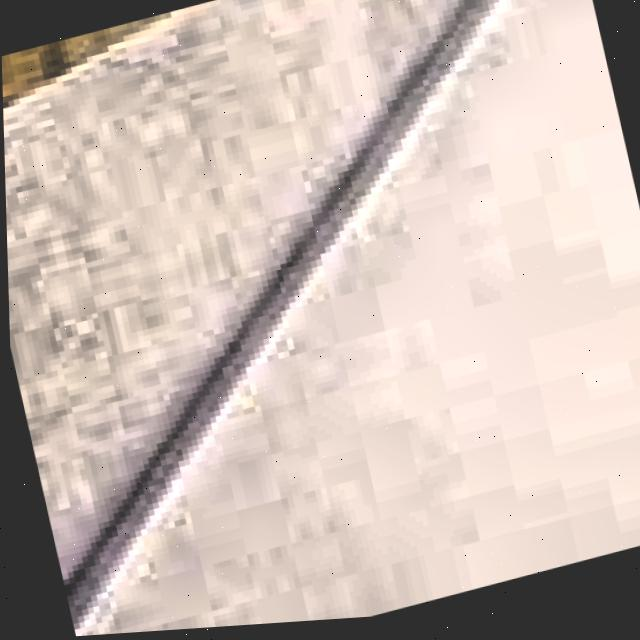paper: (3, 0, 640, 637)
